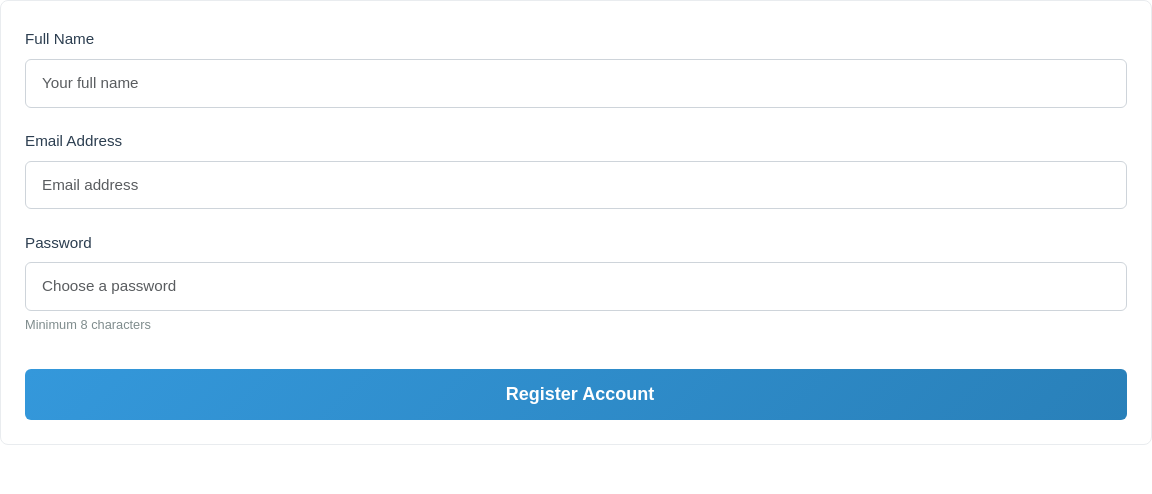
Test: UserRegistration › shows error message when registration fails
Type "John Doe" into the field labelled "Full Name" at (576, 83), box [25, 59, 1127, 108]
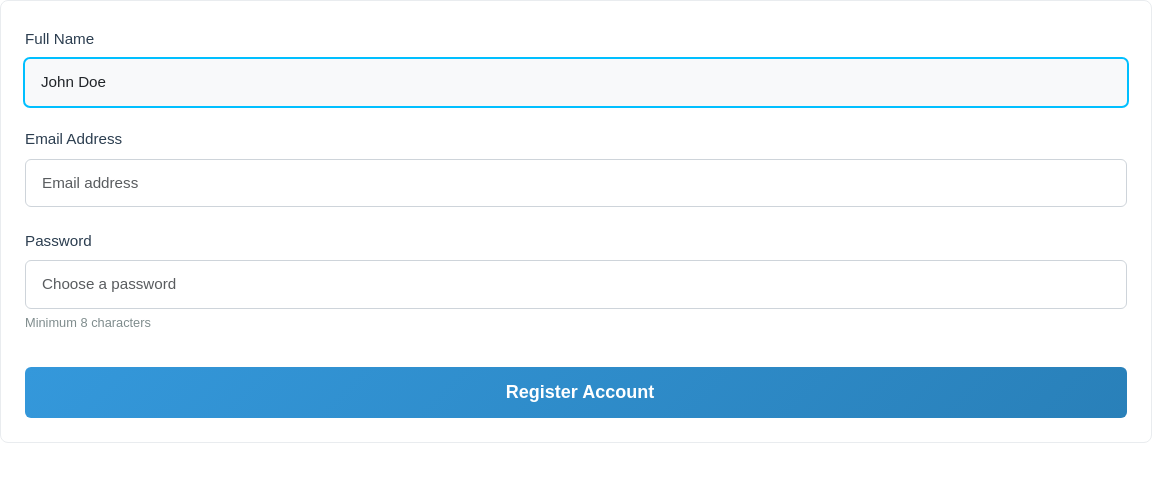
Type "john@example.com" into the field labelled "Email Address" at (576, 183), box [25, 159, 1127, 207]
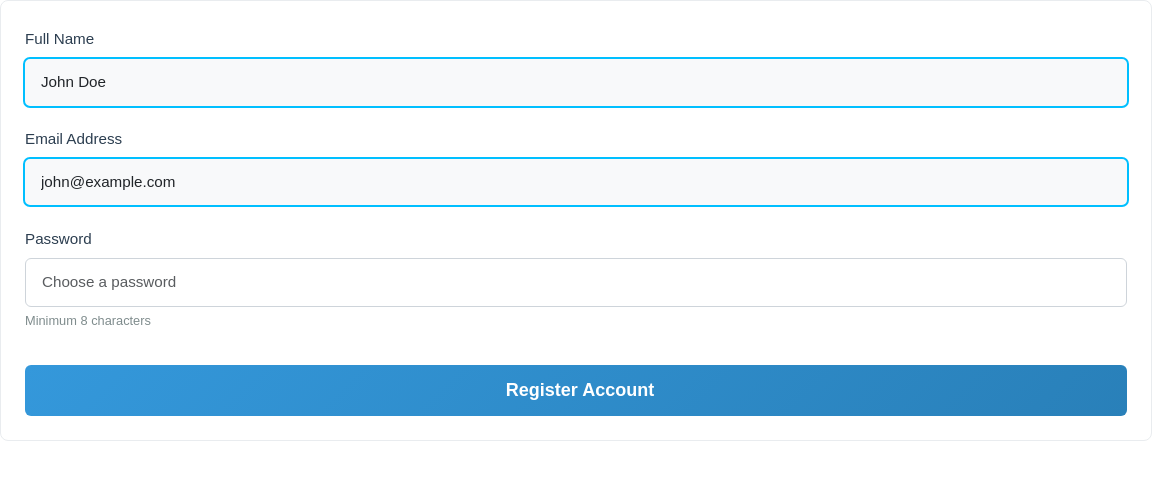
Type "password123" into the password field labelled "Password" at (576, 283), box [25, 258, 1127, 307]
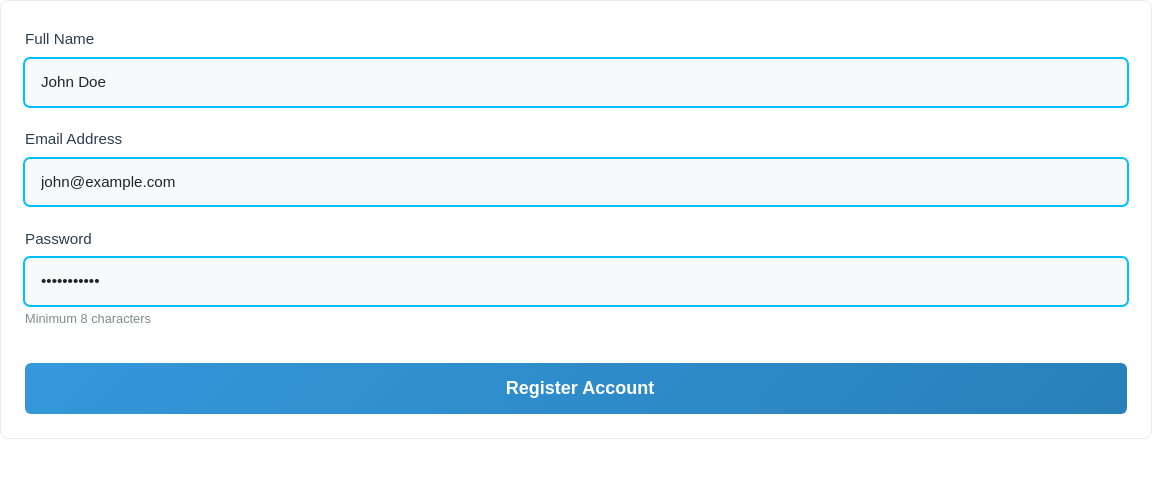
Click the button "Register Account" at (576, 389), box [25, 364, 1127, 414]
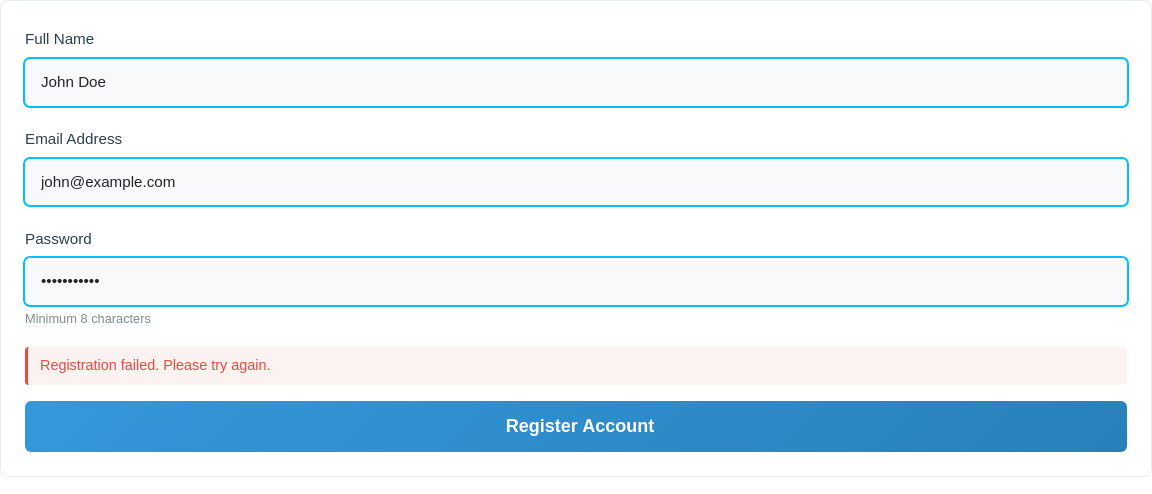
Now the text "Registration failed. Please try again." is shown, box [25, 348, 1127, 385]
